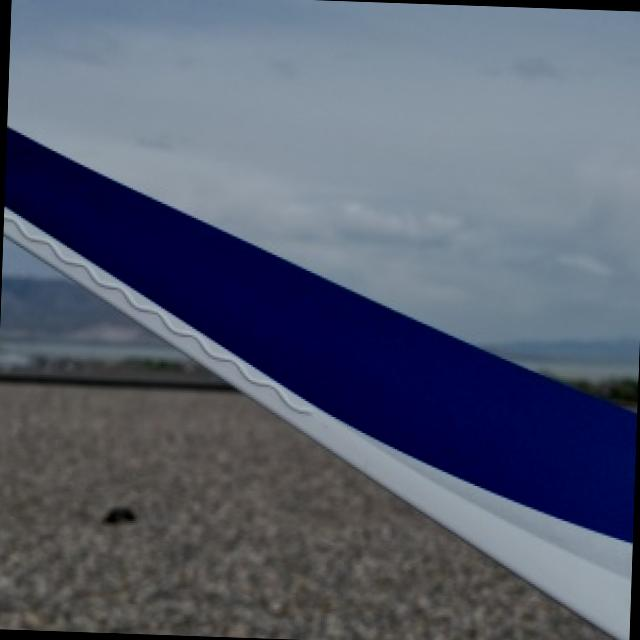healthy: (5, 128, 633, 638), (0, 384, 618, 640)
